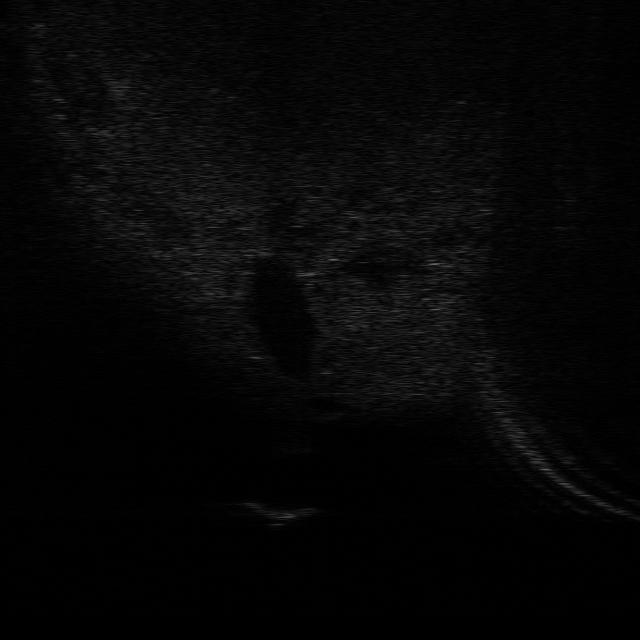cube: (242, 500, 318, 530)
